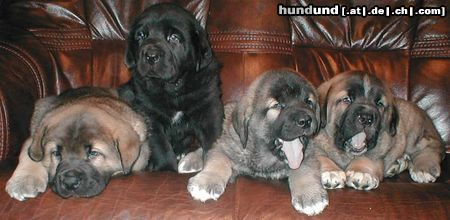mastin_espanol: (187, 66, 328, 216), (118, 2, 224, 172), (5, 86, 149, 201), (314, 69, 444, 189)
